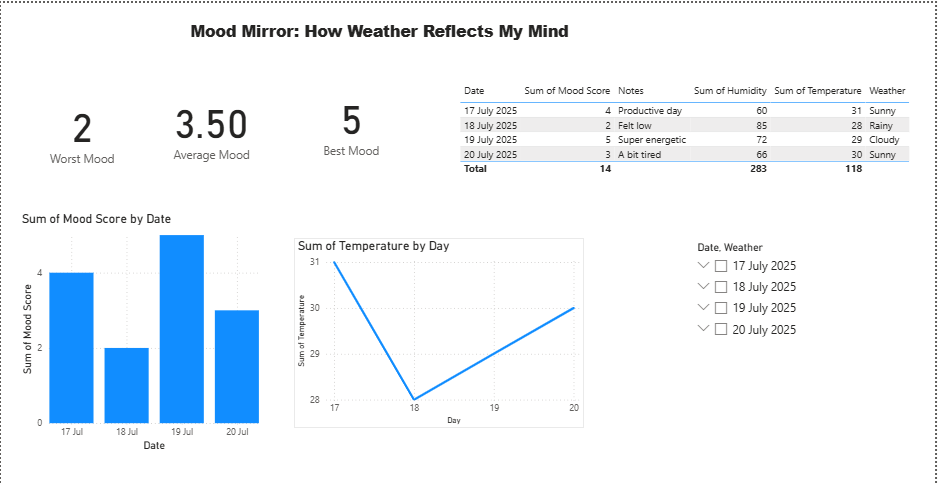

The dashboard page shown, as its layout file describes it:
{"tool":"powerbi","page":{"name":"Page 1","canvas":[1280,720],"ordinal":0},"visuals":[{"type":"clusteredColumnChart","fields":{"Y":["Sum(Sheet1.Mood Score)"],"Category":["Sheet1.Date"]},"box":[23.4,285.4,335.1,333.7],"z":0},{"type":"lineChart","fields":{"Y":["Sum(Sheet1 (2).Temperature)"],"Category":["Sheet1 (2).Date.Variation.Date Hierarchy.Day"]},"box":[401,322,398,260.5],"z":1000},{"type":"tableEx","fields":{"Values":["Sheet1.Date","Sum(Sheet1.Mood Score)","Sheet1.Notes","Sum(Sheet1 (2).Humidity)","Sum(Sheet1 (2).Temperature)","Sheet1 (2).Weather"]},"box":[623.4,103.9,635.1,169.8],"z":2000},{"type":"card","fields":{"Values":["Sheet1.Average Mood"]},"box":[191.7,99.5,193.2,139],"z":3000},{"type":"card","fields":{"Values":["Sheet1.Best Mood"]},"box":[358.5,95.1,241.5,139],"z":3001},{"type":"card","fields":{"Values":["Sheet1.Worst Mood"]},"box":[23.4,99.5,175.6,149.3],"z":3002},{"type":"slicer","fields":{"Values":["Sheet1 (2).Date","Sheet1 (2).Weather"]},"box":[941,322,178.5,149.3],"z":3003},{"type":"textbox","box":[136.1,19,765.4,43.9],"z":3004}]}

Visuals, with their boxes on the page's 1280x720 design canvas (x1, y1, x2, y2). These are canvas units, not pixel positions in the 938x485 screenshot, which may show the page scaled, cropped or inside an application window:
clusteredColumnChart - Sum(Sheet1.Mood Score) x Sheet1.Date: 23:285:358:619
lineChart - Sum(Sheet1 (2).Temperature) x Sheet1 (2).Date.Variation.Date Hierarchy.Day: 401:322:799:582
tableEx - Sheet1.Date x Sum(Sheet1.Mood Score): 623:104:1258:274
card - Sheet1.Average Mood: 192:100:385:238
card - Sheet1.Best Mood: 358:95:600:234
card - Sheet1.Worst Mood: 23:100:199:249
slicer - Sheet1 (2).Date x Sheet1 (2).Weather: 941:322:1120:471
textbox: 136:19:902:63
